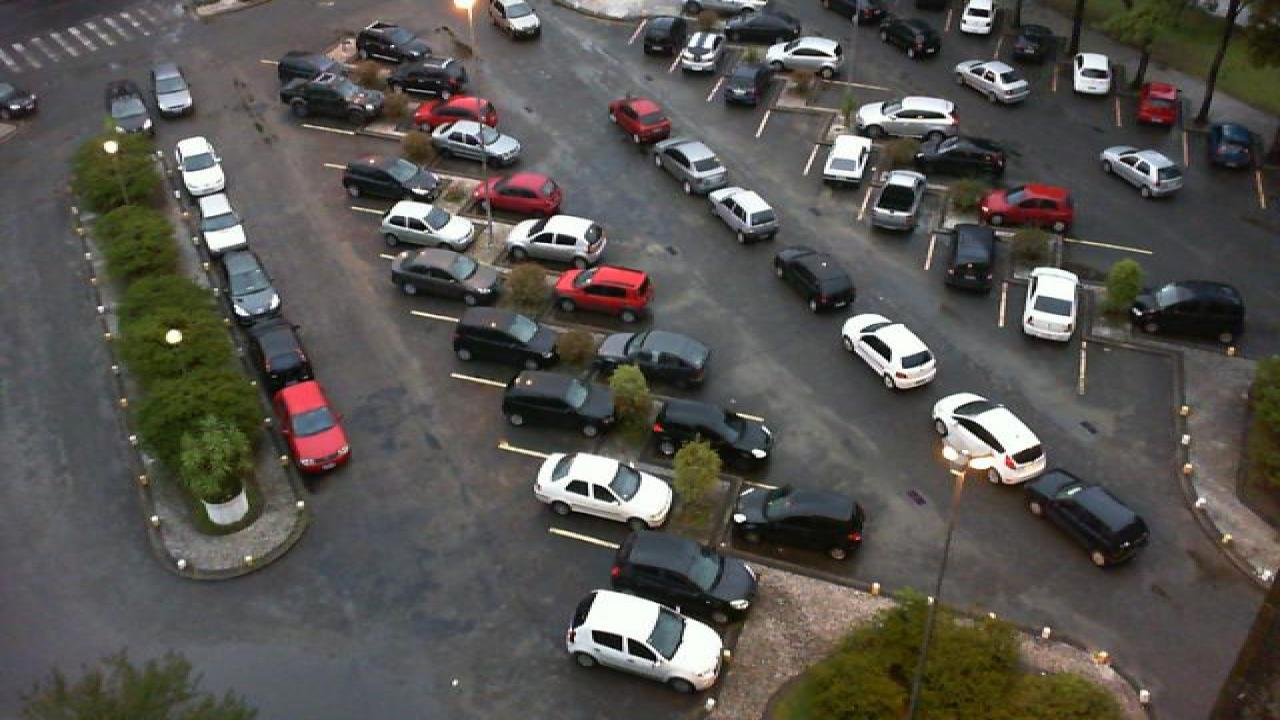Car: (564, 587, 728, 694), (608, 532, 758, 623), (1026, 469, 1152, 568), (532, 450, 676, 529), (930, 391, 1048, 485), (730, 483, 866, 560), (650, 395, 774, 472), (500, 371, 616, 442), (840, 313, 938, 390), (276, 379, 352, 476), (388, 248, 506, 310), (1130, 279, 1248, 340), (596, 328, 712, 390), (448, 308, 558, 372), (554, 263, 654, 323), (506, 215, 610, 271), (242, 315, 316, 393), (378, 199, 480, 255), (280, 72, 382, 125), (776, 245, 854, 313), (342, 154, 442, 205), (854, 96, 960, 142), (216, 248, 282, 320), (978, 183, 1074, 232), (430, 117, 522, 167), (1100, 146, 1188, 198), (706, 183, 782, 242), (1024, 266, 1082, 343), (654, 137, 728, 195), (916, 135, 1008, 180), (944, 223, 1002, 291), (480, 171, 564, 217), (818, 132, 880, 194), (866, 168, 926, 232), (388, 57, 468, 102), (952, 58, 1030, 104), (196, 192, 250, 256), (356, 21, 432, 66), (760, 35, 844, 75), (174, 135, 226, 197), (608, 96, 674, 144), (412, 94, 498, 130), (878, 16, 942, 60), (718, 61, 776, 109), (724, 11, 802, 46), (104, 78, 152, 132), (148, 62, 194, 118), (1208, 122, 1260, 168), (276, 51, 334, 90), (678, 29, 728, 74), (1138, 81, 1184, 129), (488, 0, 542, 40), (1070, 51, 1114, 99), (638, 15, 682, 58), (1008, 23, 1054, 64), (958, 0, 998, 35)
